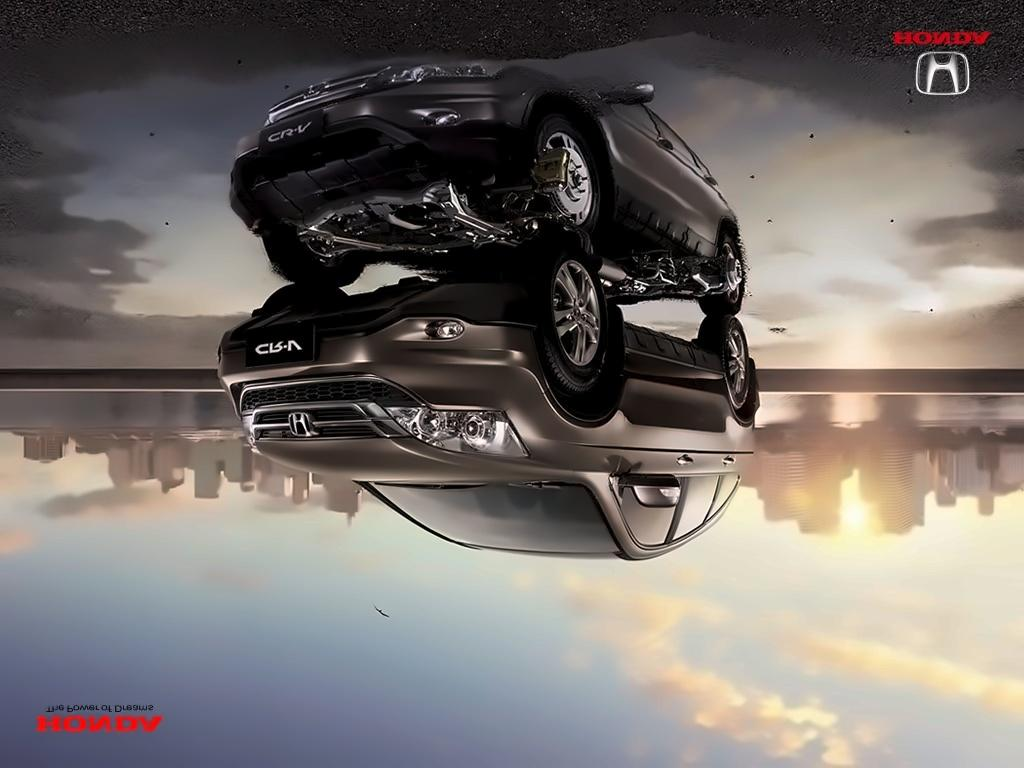Car hood: (244, 435, 595, 488)
Driver-s door - -F-R-: (589, 290, 700, 562)
Front bumper: (207, 278, 551, 422)
Headlight - -L-: (237, 409, 258, 454)
Headlight - -R-: (368, 400, 526, 459)
Passenger-s door - -R-R-: (664, 296, 745, 558)
Side bumper - -R-: (606, 314, 726, 400)
Side mirror - -R-: (618, 468, 687, 514)
